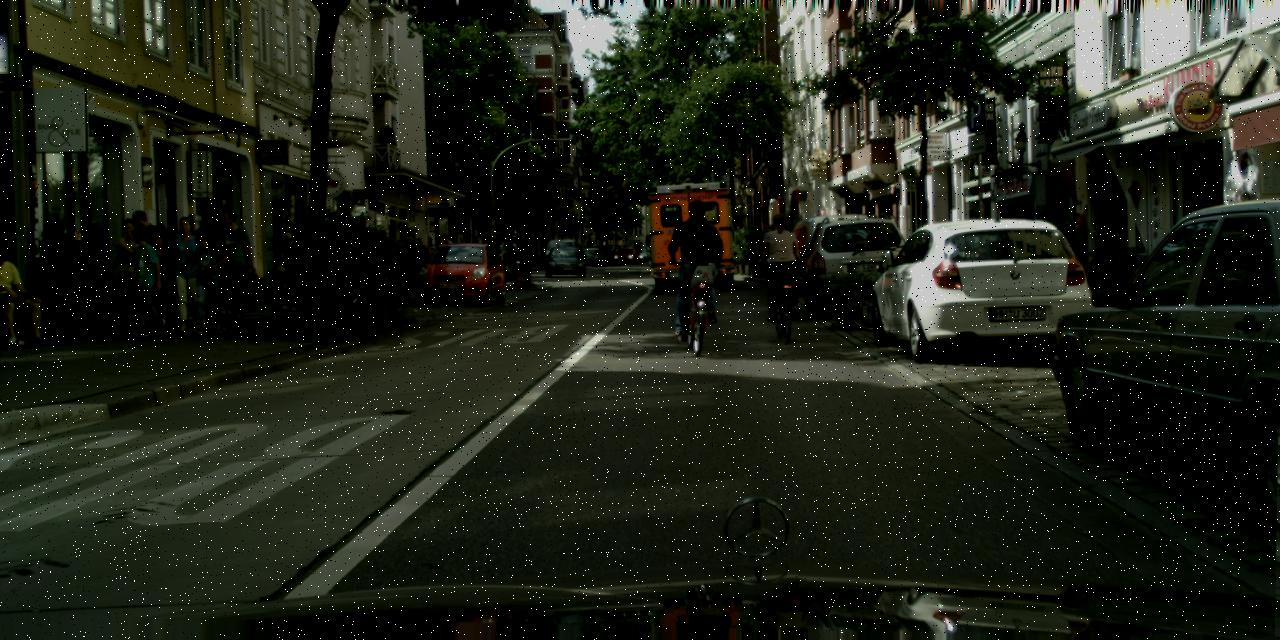ped: (672, 200, 722, 324), (124, 211, 172, 328), (210, 210, 256, 324), (165, 216, 211, 330), (108, 218, 154, 331), (122, 227, 167, 335), (760, 212, 804, 319), (184, 228, 227, 334), (184, 241, 218, 324), (439, 234, 458, 281), (504, 240, 515, 268), (497, 240, 507, 268), (508, 240, 518, 264), (582, 242, 590, 262), (576, 245, 582, 262), (611, 246, 617, 262)
